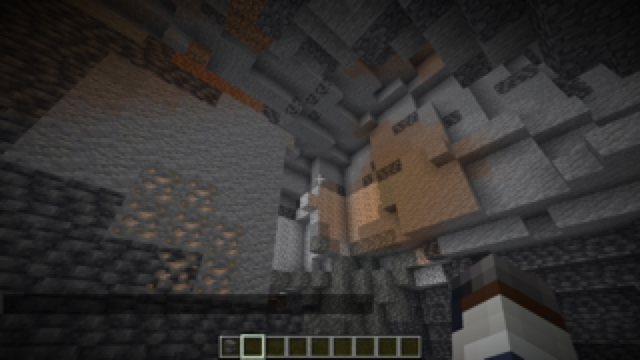coal: (285, 78, 332, 123)
iron: (109, 169, 245, 294)
